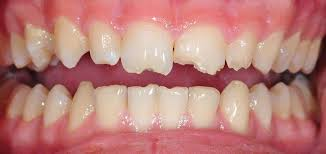normal: (221, 82, 251, 133), (95, 82, 127, 129), (189, 83, 220, 131), (90, 24, 121, 68), (254, 29, 280, 76), (46, 82, 70, 127), (252, 83, 274, 130), (287, 76, 312, 117), (26, 82, 47, 124), (280, 33, 299, 78), (7, 83, 26, 121), (302, 38, 321, 74), (274, 84, 292, 117), (290, 39, 305, 74)
rough: (122, 24, 173, 77), (176, 24, 226, 77), (53, 20, 90, 69), (127, 84, 157, 131), (159, 84, 189, 128), (225, 30, 252, 71)
yellow: (25, 27, 53, 70), (72, 80, 94, 127), (8, 33, 31, 66)
